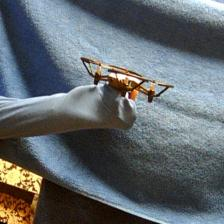drone: (80, 53, 177, 105)
